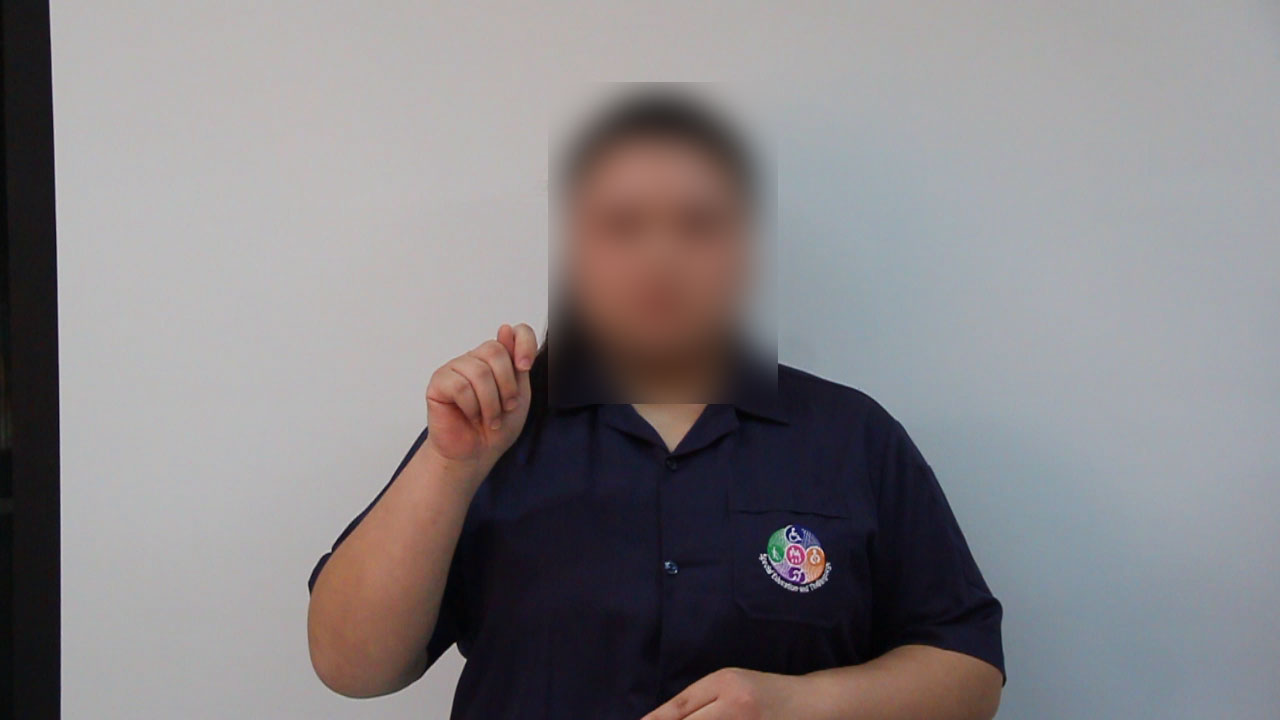tor: (419, 301, 551, 479)
